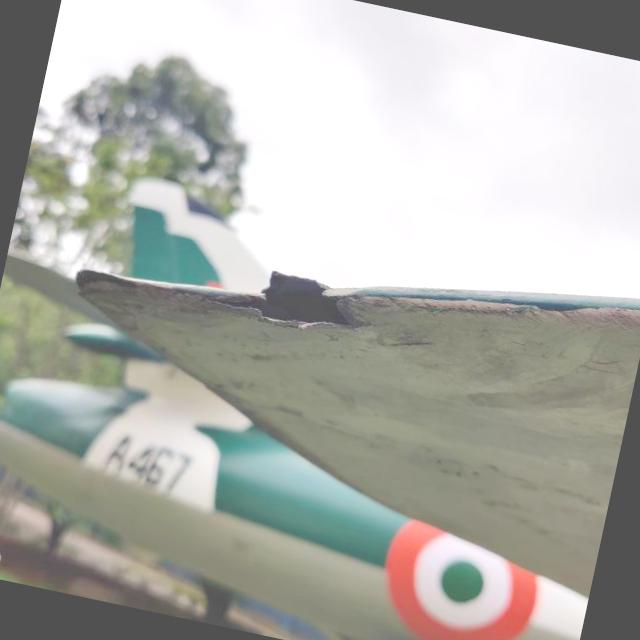crack: (232, 250, 394, 358)
